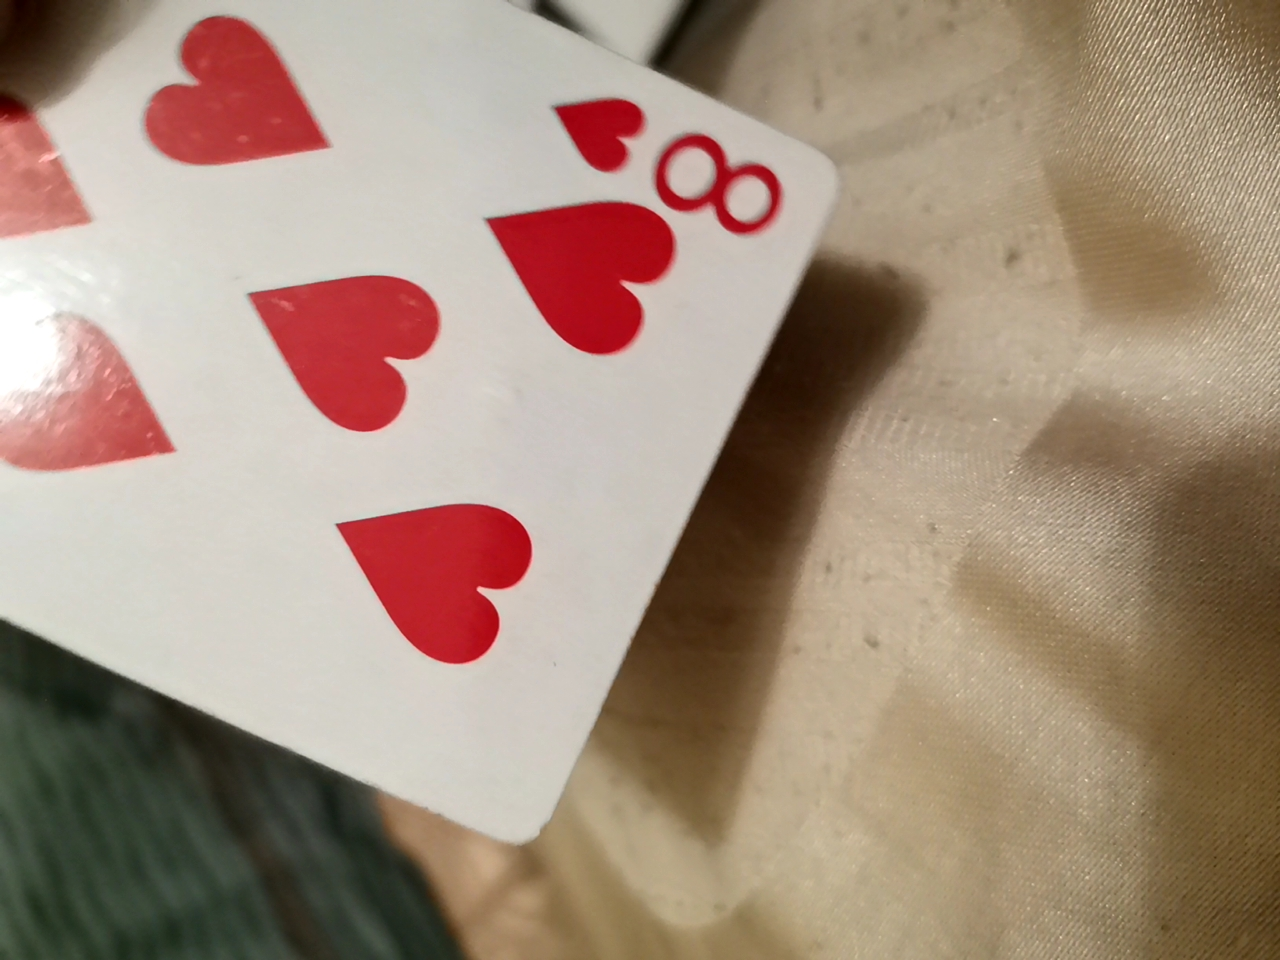hx 8: (2, 19, 880, 864)
